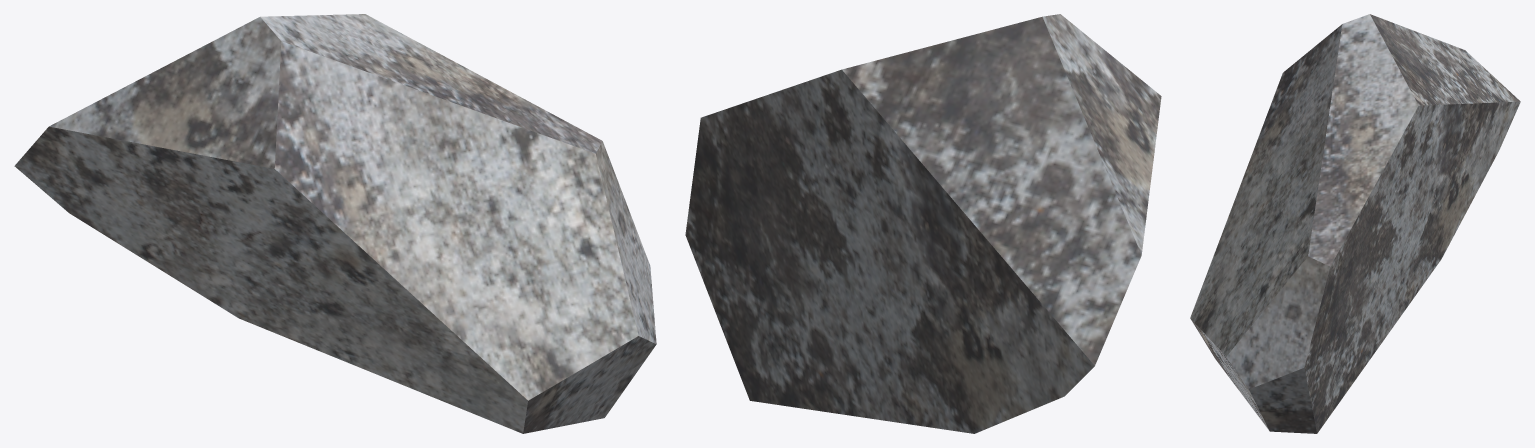
File: Asteroid_Large_001_02_009_03_044.fbx
3 views of the same model, side by side, from view 1: azimuth 30°, elevation 25°; view 2: azimuth 150°, elevation 25°; view 3: azimuth 270°, elevation 25° (orthographic). The views are drawn at different scales.
Visible parts, largest first — view 1: Asteroid_Large_001_02_009_03_044; view 2: Asteroid_Large_001_02_009_03_044; view 3: Asteroid_Large_001_02_009_03_044.
Boxes of the visible parts, x1,y1,x2,y2 form: Asteroid_Large_001_02_009_03_044: (14,14,656,433); Asteroid_Large_001_02_009_03_044: (685,14,1161,433); Asteroid_Large_001_02_009_03_044: (1190,14,1520,433).
Bounding box in the file's own units: 10.43 × 8.49 × 8.05.
